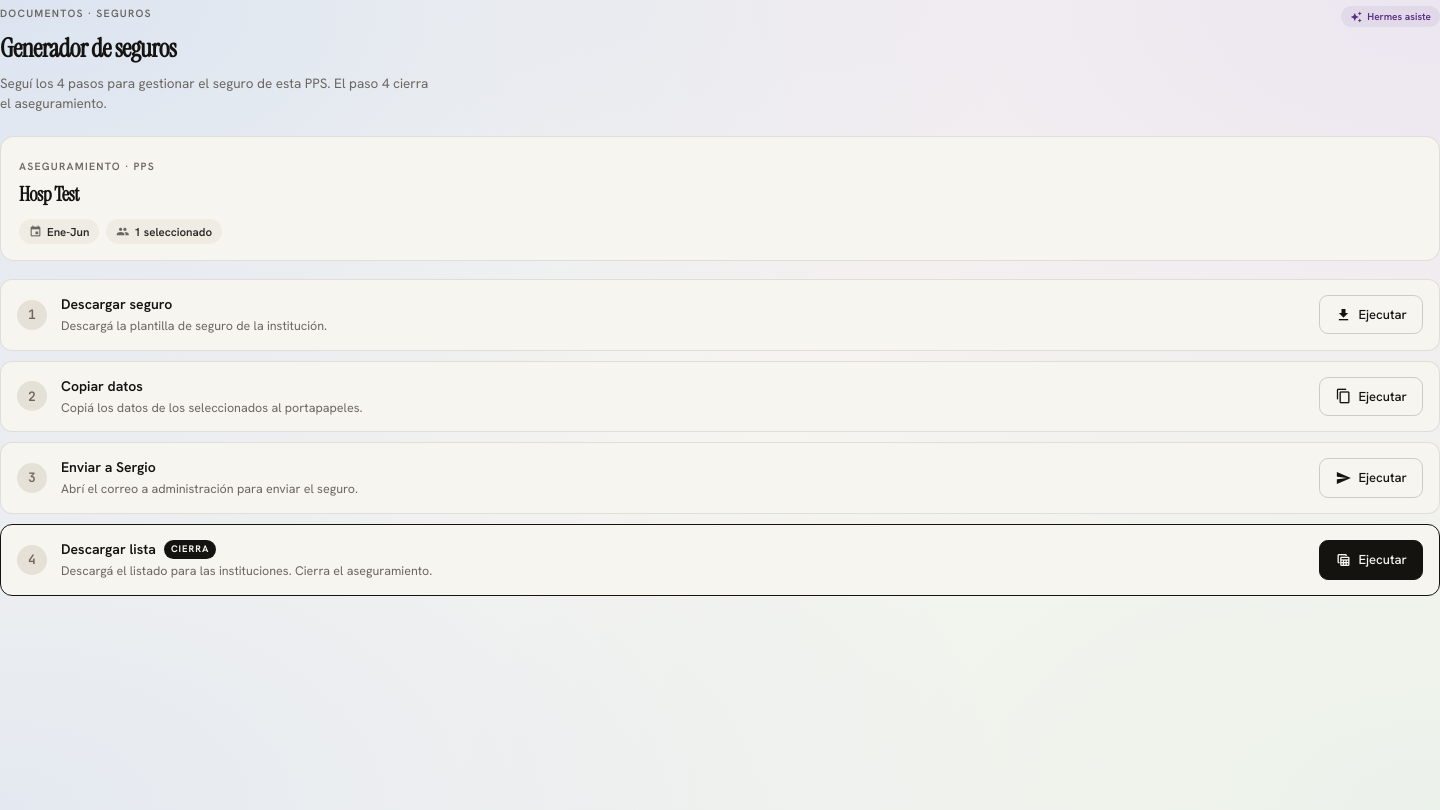
Test: SeguroGenerator — flujo contextual (4 pasos) › tras marcar con éxito muestra el estado 'Seguro gestionado'
Click the button with aria-label "Descargar lista": (1371, 560) top-left (1319, 540), bottom-right (1423, 580)
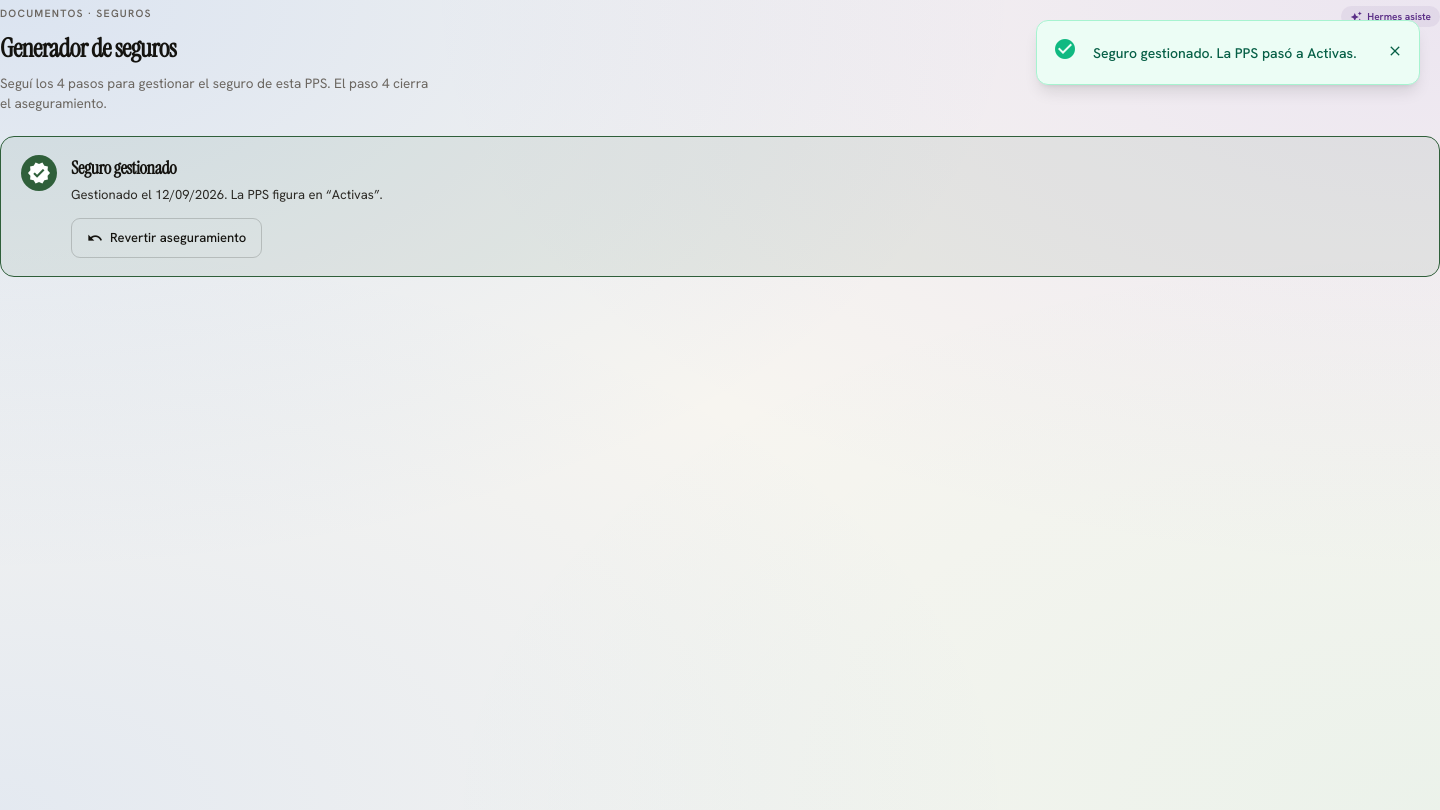
expect the text "Seguro gestionado" is shown: met, box top-left (71, 156), bottom-right (176, 180)
